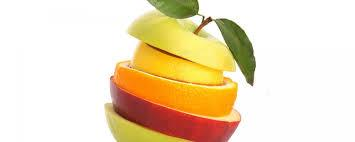Organic: (68, 0, 294, 142)
